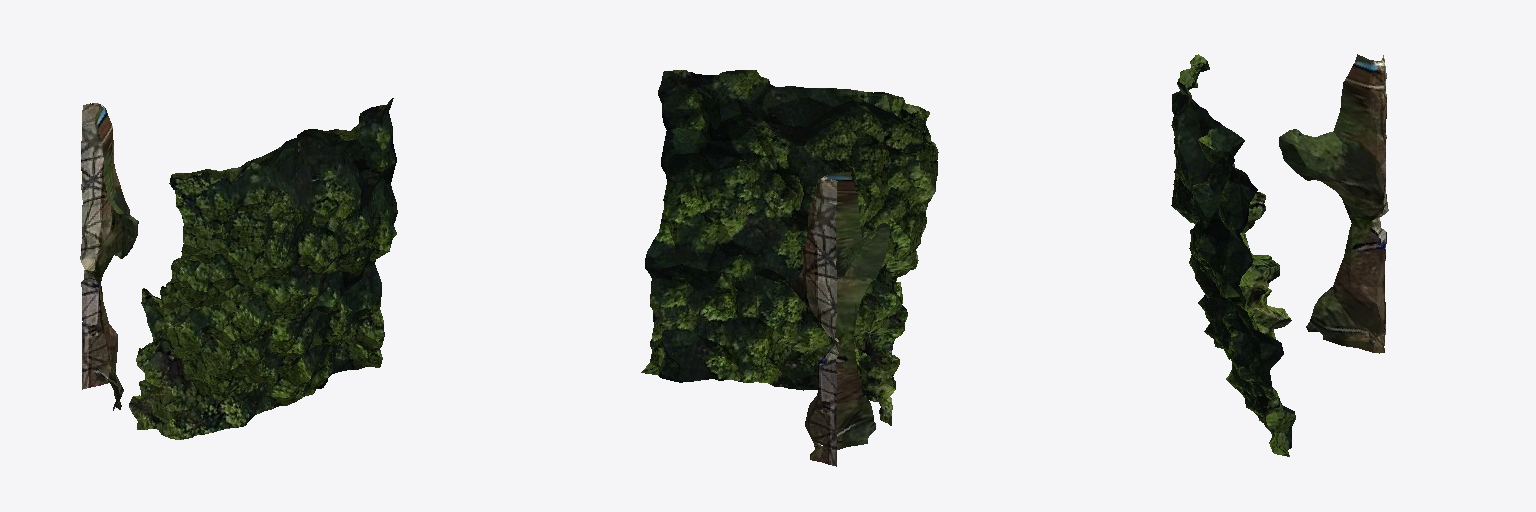
3 renders of one model, left to right at view 1: azimuth 30°, elevation 25°; view 2: azimuth 150°, elevation 25°; view 3: azimuth 270°, elevation 25°, orthographic.
Parts seen in each view (by area): view 1: obj_0; view 2: obj_0; view 3: obj_0.
Part boxes in pixels (x1,y1,x2,y2): obj_0: (80, 98, 397, 439); obj_0: (641, 70, 938, 466); obj_0: (1171, 54, 1388, 456).
Size of the model in its own units: 20.08 by 22.53 by 15.56.
Materials: 1 (1 with a texture image).